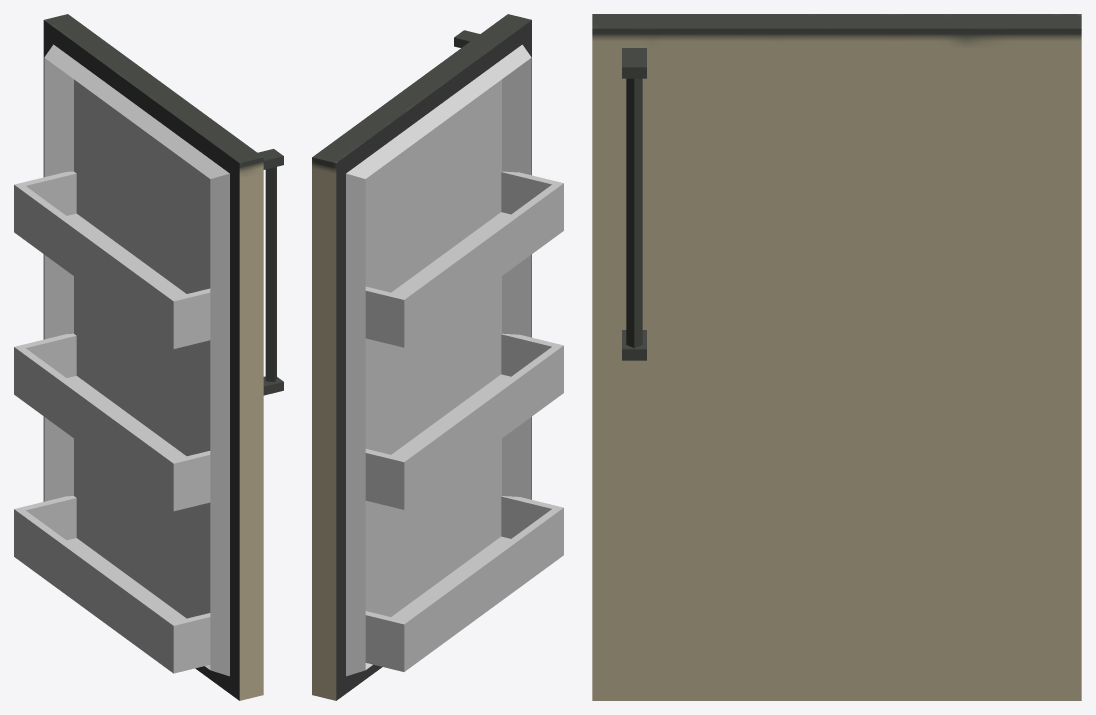
The model's file is Refrigerator_Door_001-col.glb.
3 views of the same model, side by side, from view 1: azimuth 30°, elevation 25°; view 2: azimuth 150°, elevation 25°; view 3: azimuth 270°, elevation 25° (orthographic). The views are drawn at different scales.
Visible parts, largest first — view 1: Refrigerator_Door.001-col; view 2: Refrigerator_Door.001-col; view 3: Refrigerator_Door.001-col.
Part boxes in pixels (x1=…): Refrigerator_Door.001-col: x1=14, y1=14, x2=283, y2=700; Refrigerator_Door.001-col: x1=312, y1=14, x2=563, y2=700; Refrigerator_Door.001-col: x1=592, y1=14, x2=1081, y2=700.
Size of the model in its own units: 0.2853 by 1.4 by 0.9216.
1 material, 1 textured.
